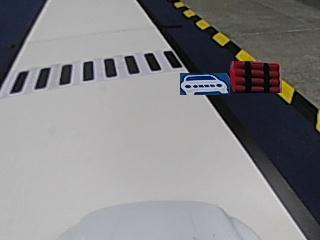crosswalk: (7, 49, 178, 95)
